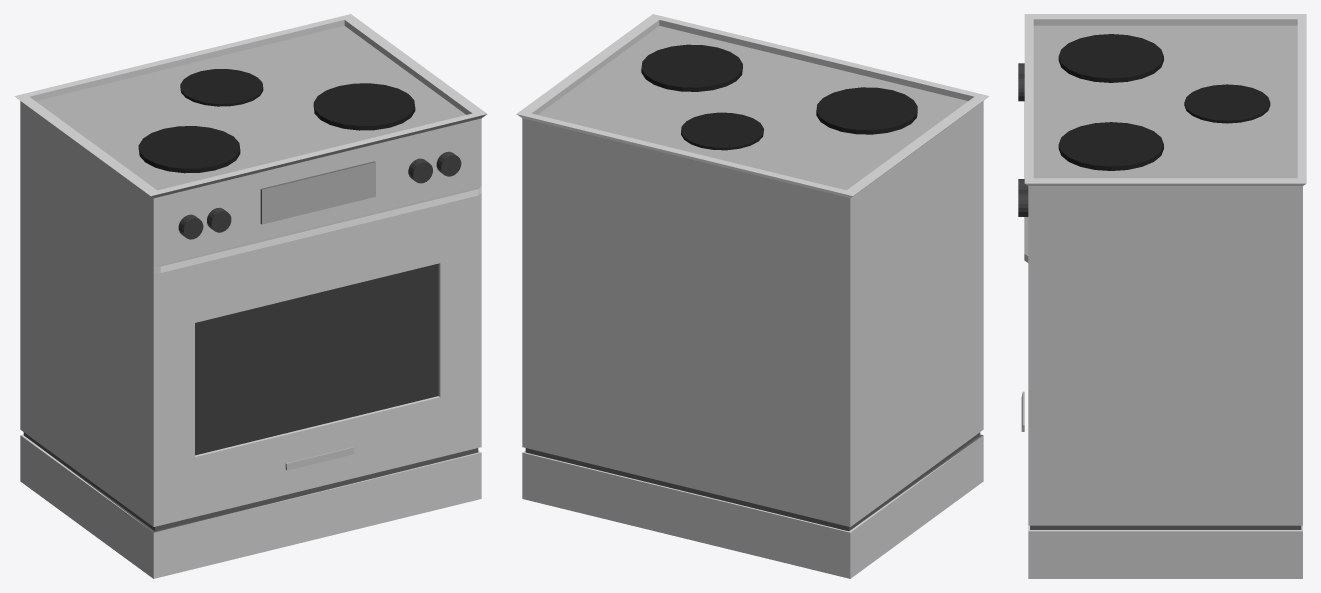
Rendered from stove_01.glb.
The picture shows the model from 3 angles, left to right: view 1: azimuth 30°, elevation 25°; view 2: azimuth 150°, elevation 25°; view 3: azimuth 270°, elevation 25°; orthographic projection. The views are drawn at different scales.
Visible parts, largest first — view 1: Cube; view 2: Cube; view 3: Cube.
Boxes of the visible parts, <box> form: Cube: <box>14,14,487,578</box>; Cube: <box>516,14,989,578</box>; Cube: <box>1018,14,1306,578</box>.
Size of the model in its own units: 0.9236 by 1.01 by 0.6641.
1 material, 1 textured.
